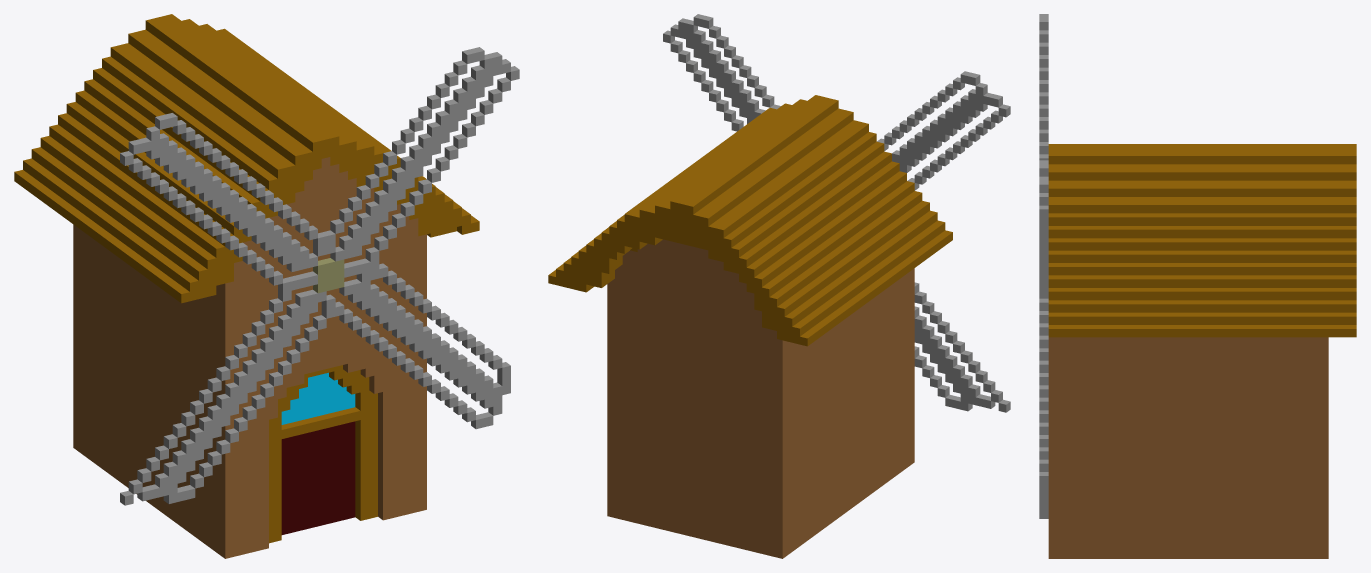
File: windmill.obj
The picture shows the model from 3 angles, left to right: view 1: azimuth 30°, elevation 25°; view 2: azimuth 150°, elevation 25°; view 3: azimuth 270°, elevation 25°; orthographic projection. The views are drawn at different scales.
Bounding box in the file's own units: 45 × 50 × 34.
